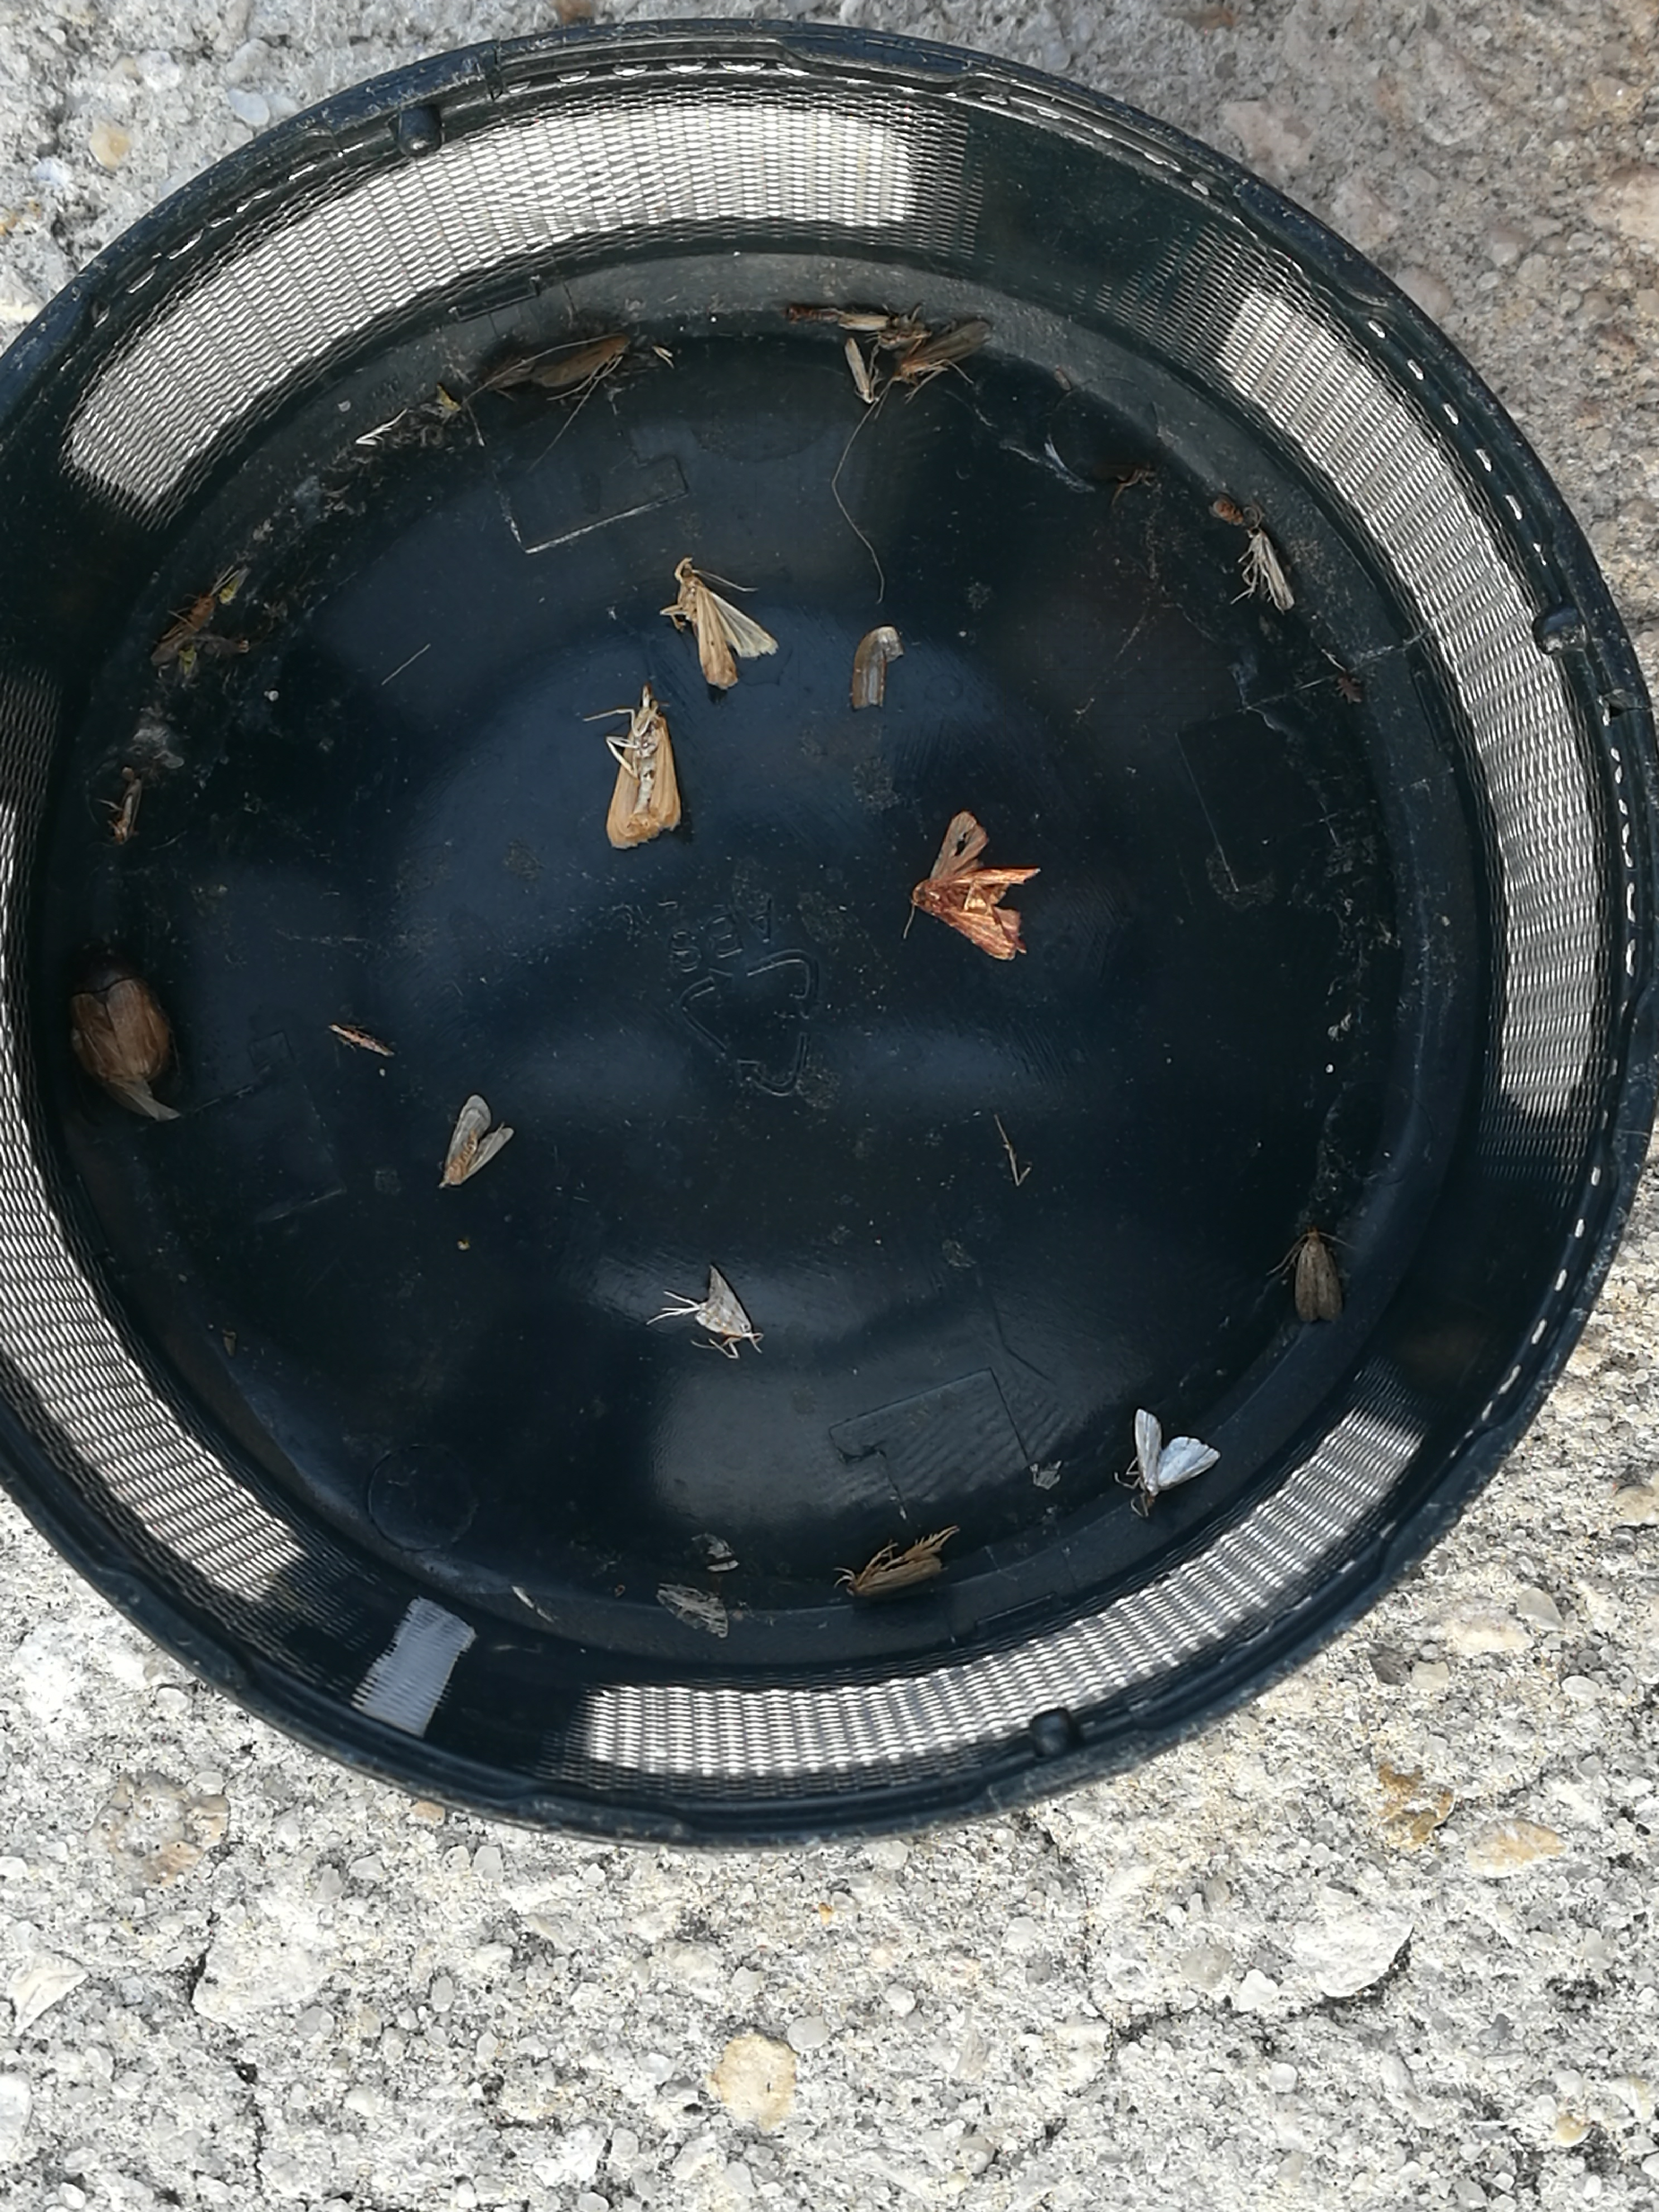beetle: (71, 961, 171, 1094)
mosquito: (836, 1545, 946, 1599), (899, 326, 992, 376), (152, 594, 214, 667), (535, 340, 624, 390), (1249, 526, 1291, 613), (849, 341, 878, 404), (836, 307, 890, 333)
moth: (908, 813, 1019, 960), (666, 563, 775, 688), (606, 688, 678, 850), (1133, 1413, 1220, 1493), (439, 1099, 512, 1186), (690, 1268, 760, 1352), (1291, 1237, 1342, 1322)
